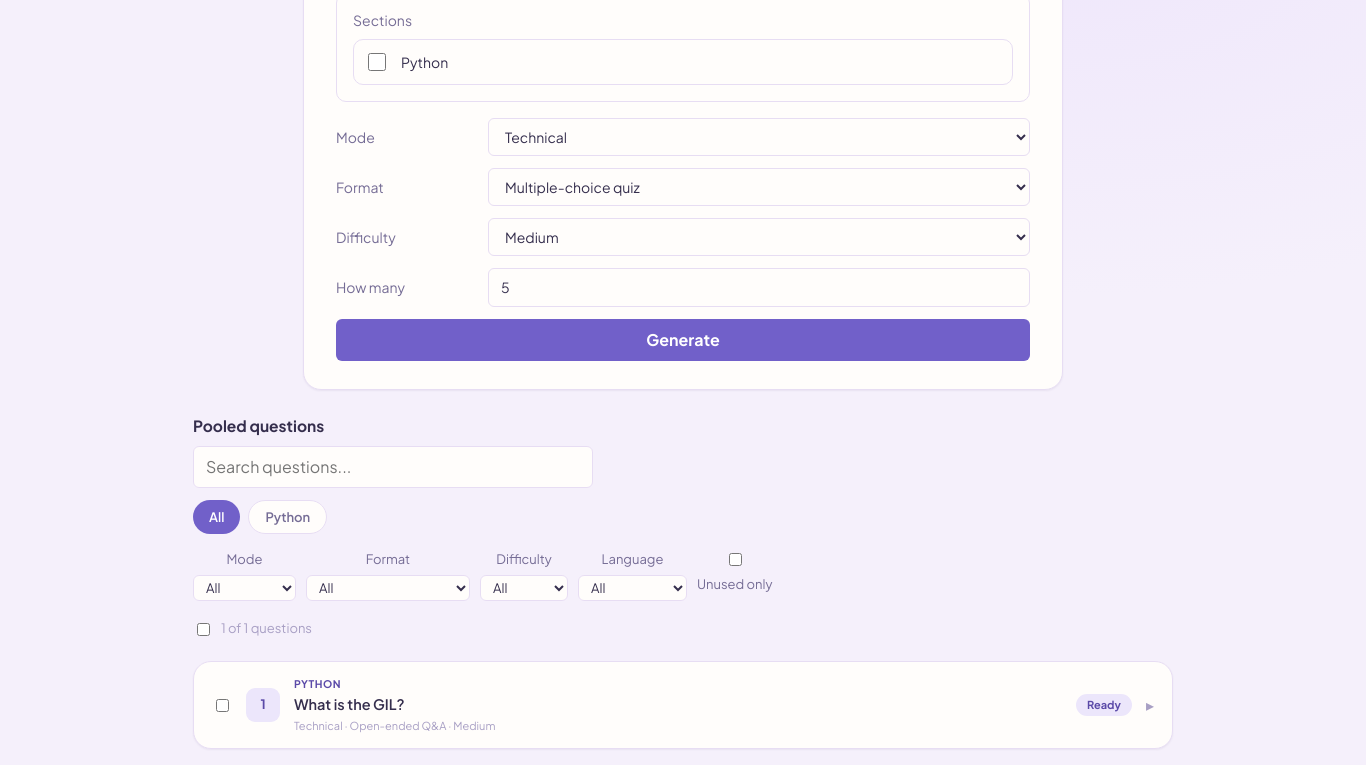
Scenario: QuestionBankScreen › removes a question after confirming deletion
The image size is (1366, 765).
(page scrolled)
Click the text "What is the GIL?". click: point(349, 704)
box: [294, 695, 405, 713]
(page scrolled)
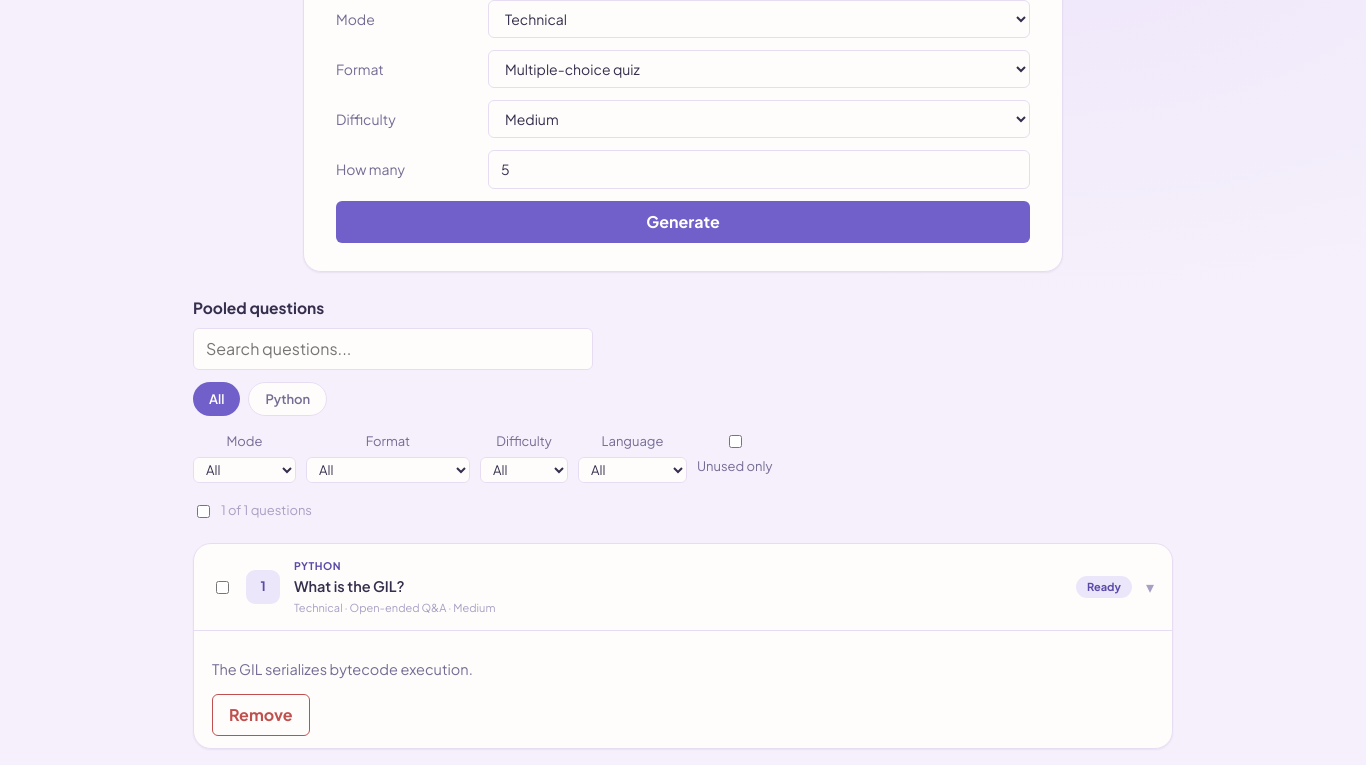
Click the button "Remove". click: point(261, 716)
box: [212, 694, 310, 736]
(page scrolled)
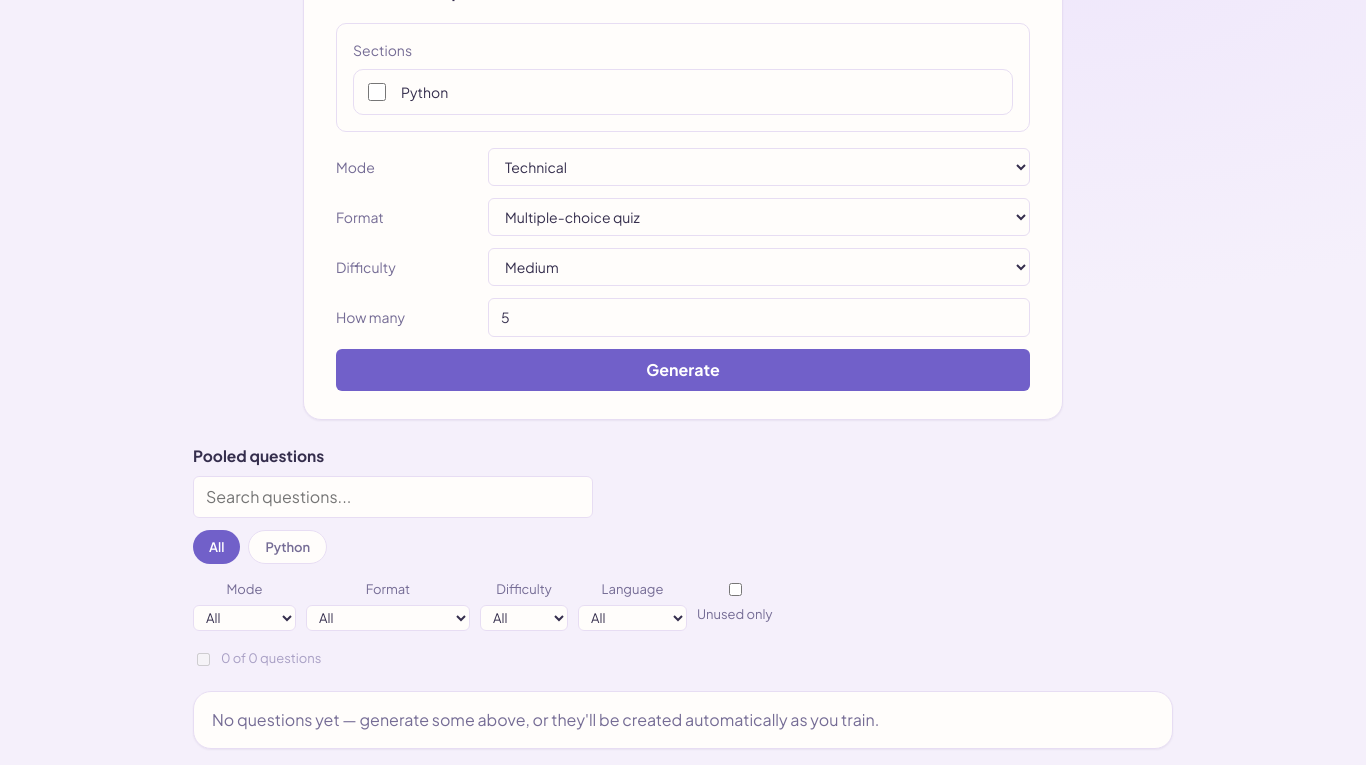
Now the button "What is the GIL?" is gone
